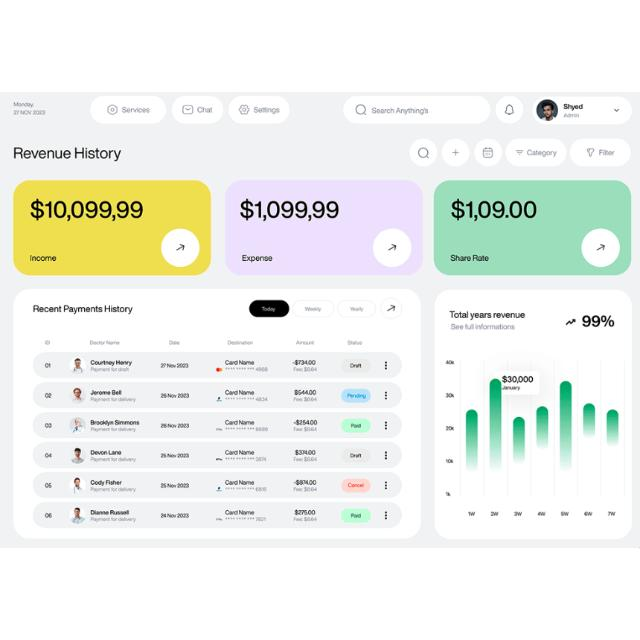Bar: (442, 342, 628, 526)
QLabel: (30, 198, 144, 222), (239, 198, 339, 222), (451, 198, 537, 222), (12, 147, 122, 163), (33, 305, 134, 315), (449, 310, 525, 320), (450, 324, 516, 332), (582, 314, 614, 328), (449, 254, 488, 262), (241, 254, 275, 262), (526, 149, 558, 157), (122, 106, 150, 114), (253, 106, 281, 114), (29, 254, 56, 262), (14, 110, 46, 116), (599, 149, 615, 157), (13, 102, 34, 108), (304, 306, 322, 312), (564, 104, 582, 110), (197, 107, 213, 113), (563, 112, 579, 118), (262, 306, 276, 312), (350, 306, 364, 312)
VAvatar: (538, 100, 558, 120)
VBtn: (89, 96, 167, 124), (570, 138, 632, 168), (229, 96, 289, 124), (506, 140, 566, 167), (170, 96, 223, 124), (292, 300, 334, 318), (249, 299, 289, 317), (337, 300, 375, 318)
VDataTable: (28, 336, 406, 532)
VIcon: (418, 147, 430, 159), (505, 104, 515, 116), (238, 105, 250, 115), (482, 148, 493, 158), (108, 105, 118, 115), (182, 106, 194, 114), (596, 244, 606, 252), (566, 318, 576, 326), (177, 244, 186, 252), (388, 244, 397, 252), (452, 148, 460, 156), (387, 304, 395, 312), (588, 148, 594, 156), (516, 149, 524, 155), (615, 108, 619, 112)
VTextField: (344, 96, 491, 124)
